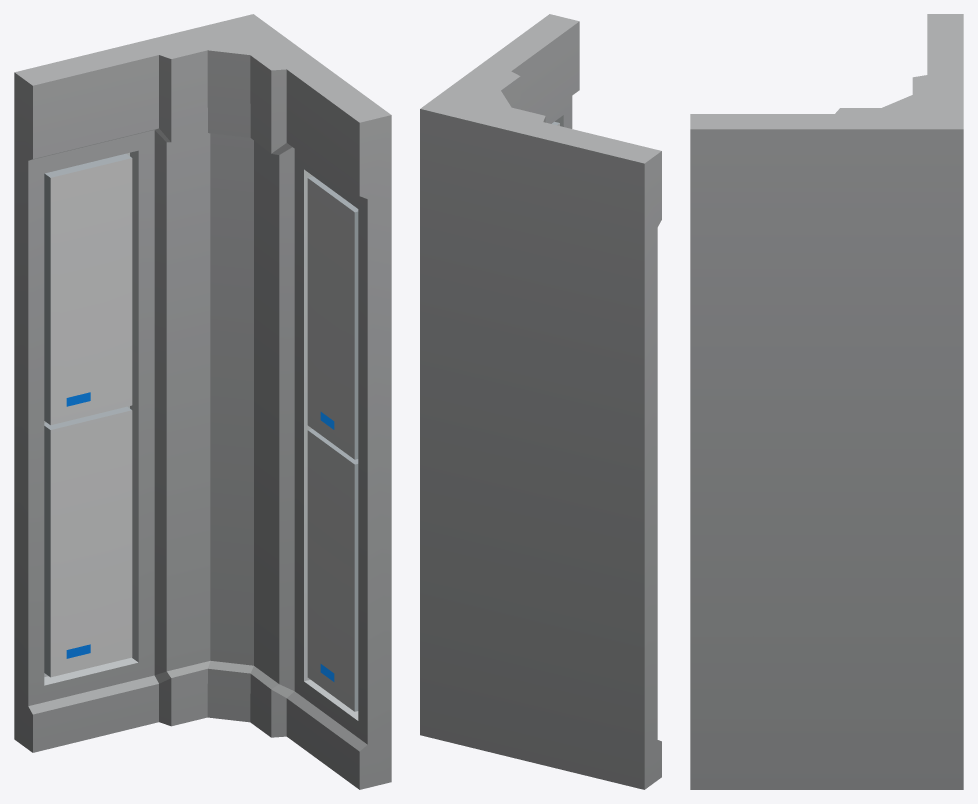
The model's file is Wall_type_A_024.glb.
3 renders of one model, left to right at view 1: azimuth 30°, elevation 25°; view 2: azimuth 150°, elevation 25°; view 3: azimuth 270°, elevation 25°, orthographic. The views are drawn at different scales.
Visible parts, largest first — view 1: Wall_type_A_024; view 2: Wall_type_A_024; view 3: Wall_type_A_024.
Part boxes in pixels (bbox=[...]): Wall_type_A_024: bbox=[14, 14, 391, 789]; Wall_type_A_024: bbox=[420, 14, 661, 789]; Wall_type_A_024: bbox=[690, 14, 963, 789].
Bounding box in the file's own units: 1.5 × 4 × 1.5.
Materials: 2 (2 with a texture image).
